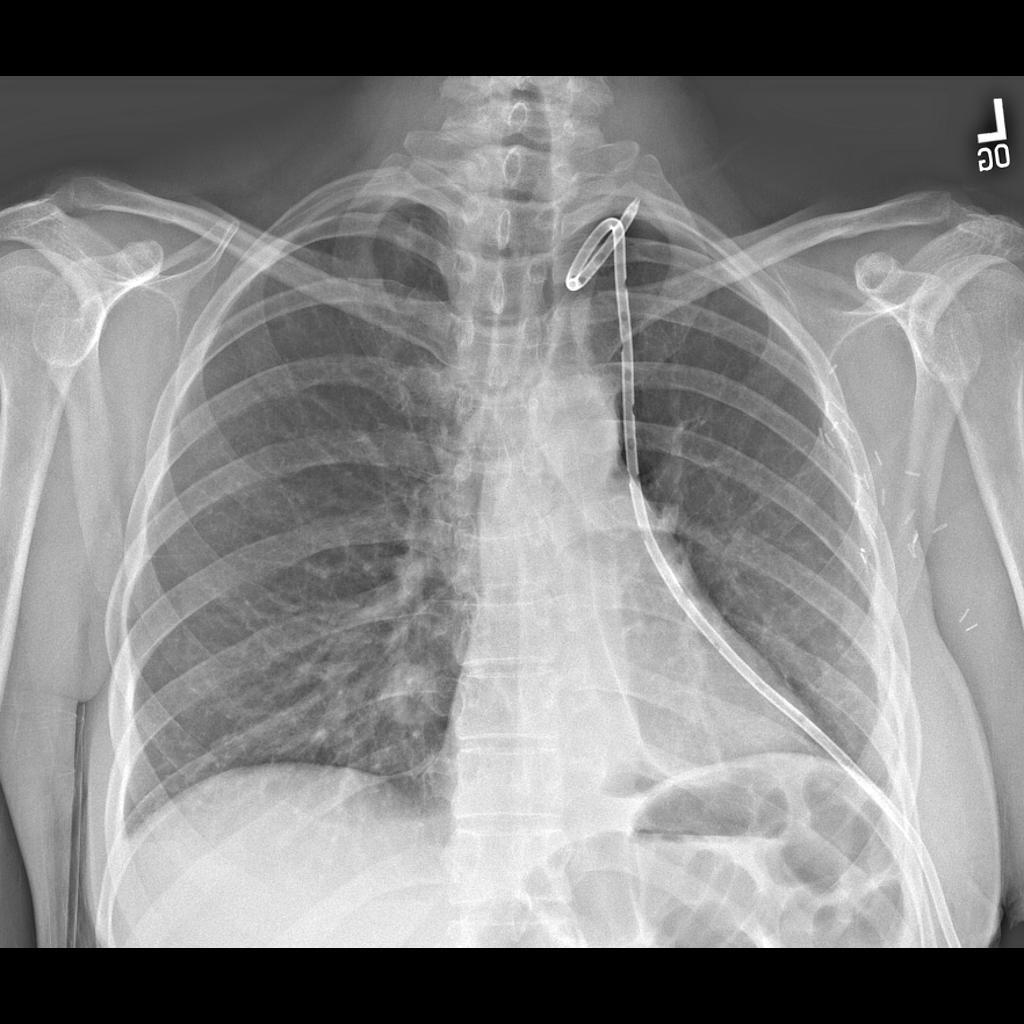Nodule: (368, 656, 446, 727)
